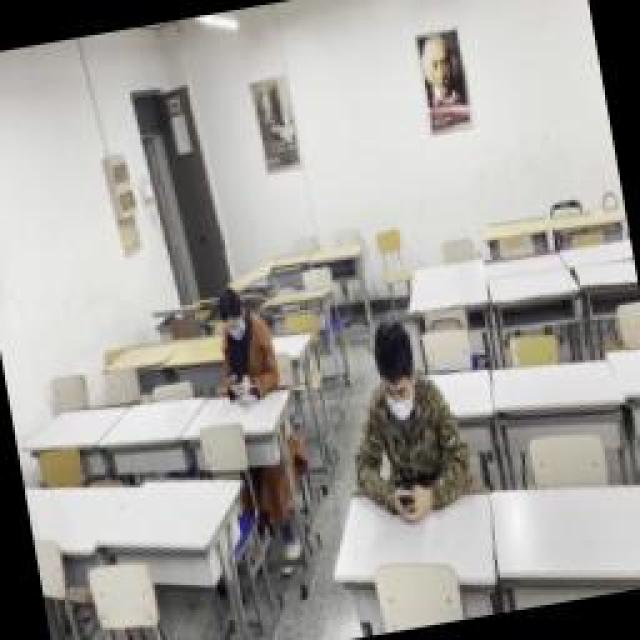phone: (337, 315, 465, 523), (210, 290, 282, 402)
